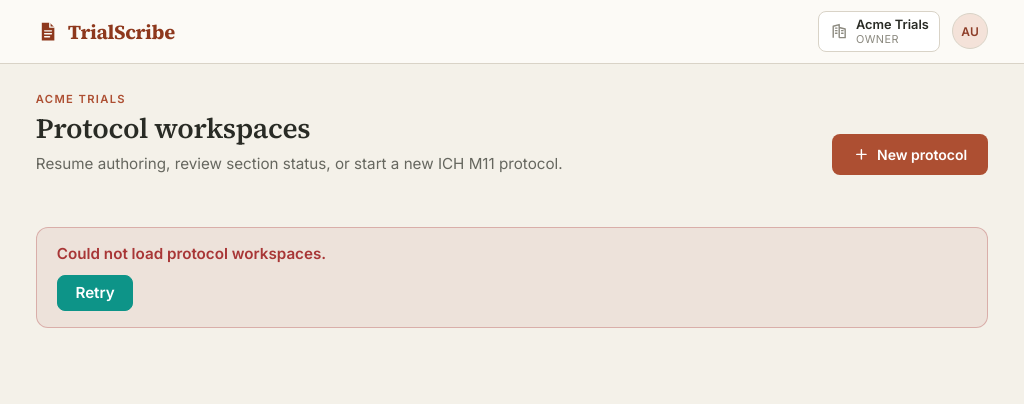
Test: ProtocolLibraryPage › shows the fixed load failure with a working retry
Check: the text "Could not load protocol workspaces." is shown, box x1=57 y1=244 x2=326 y2=263
Click the button "Retry" at [95, 293], box x1=57 y1=275 x2=133 y2=310
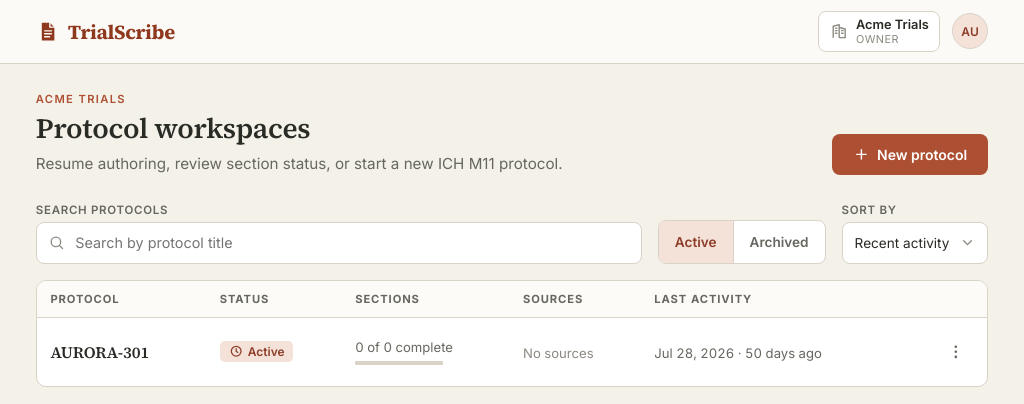
Check: the link "AURORA-301" is shown, box x1=50 y1=341 x2=149 y2=363
